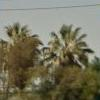Palm tree: (8, 14, 92, 70)
